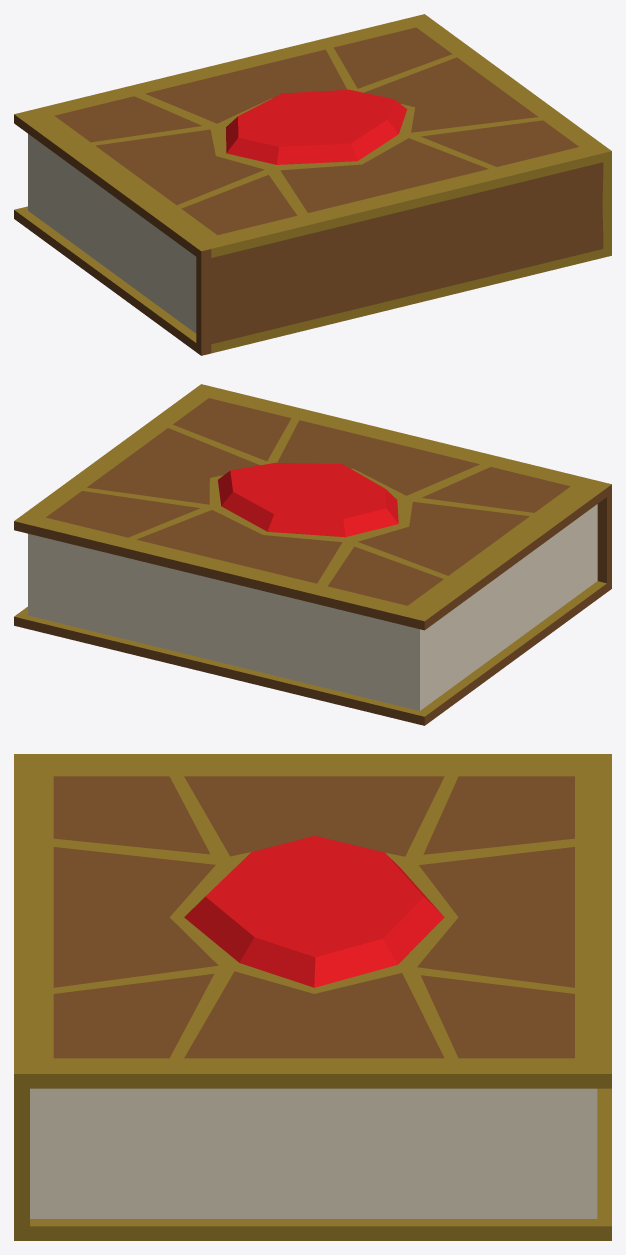
The model's file is Spellbook closed-samuelgragg.fbx.
The picture shows the model from 3 angles, top to bottom: view 1: azimuth 30°, elevation 25°; view 2: azimuth 150°, elevation 25°; view 3: azimuth 270°, elevation 25°; orthographic projection. The views are drawn at different scales.
Visible parts, largest first — view 1: Cube; view 2: Cube; view 3: Cube.
Boxes of the visible parts, x1,y1,x2,y2 form: Cube: (14, 14, 611, 355); Cube: (14, 384, 611, 725); Cube: (14, 754, 611, 1240).
Bounding box in the file's own units: 210 × 63.57 × 166.
